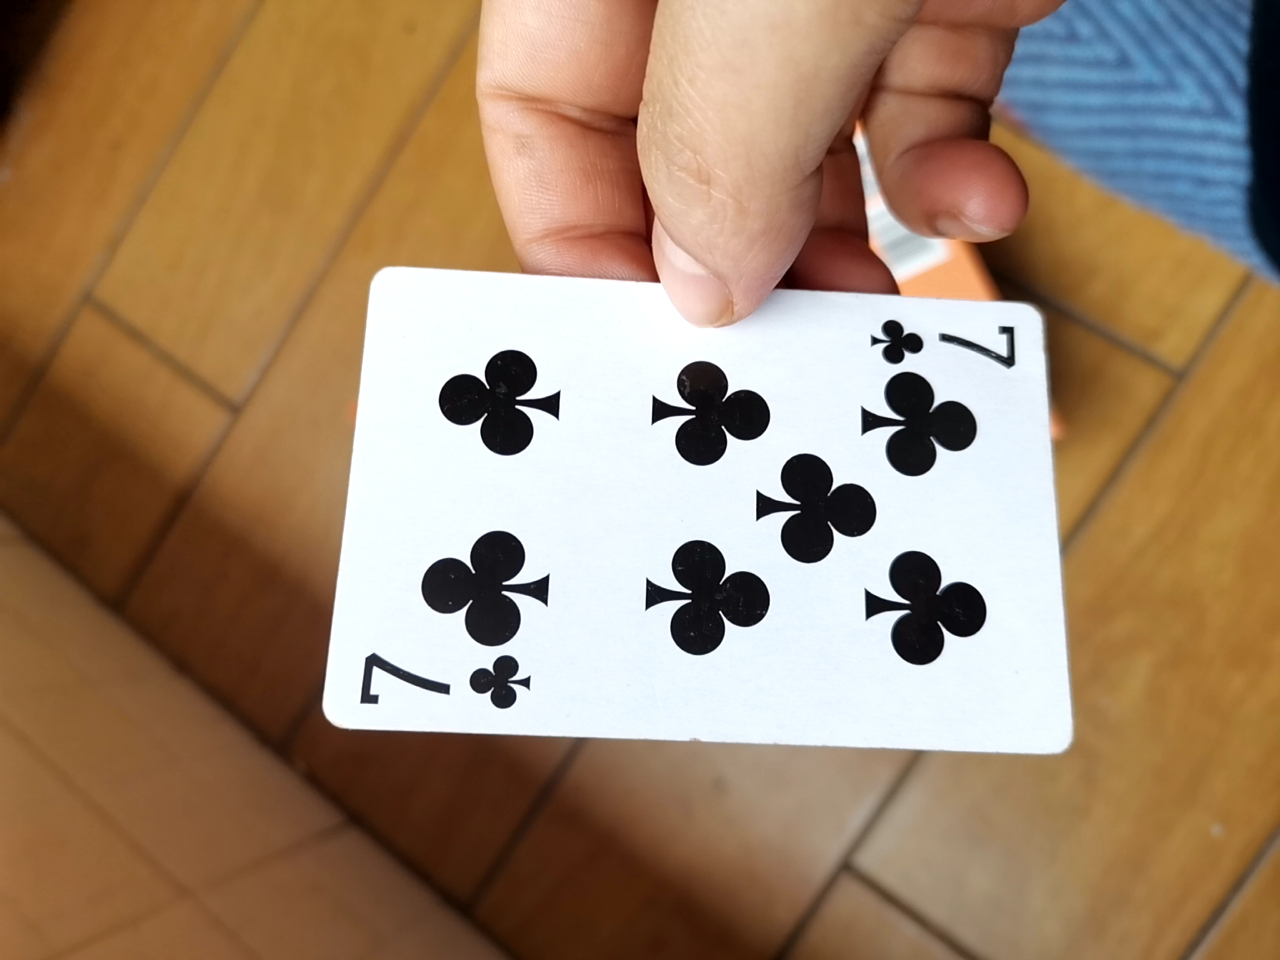mh 7: (312, 272, 1077, 775)
